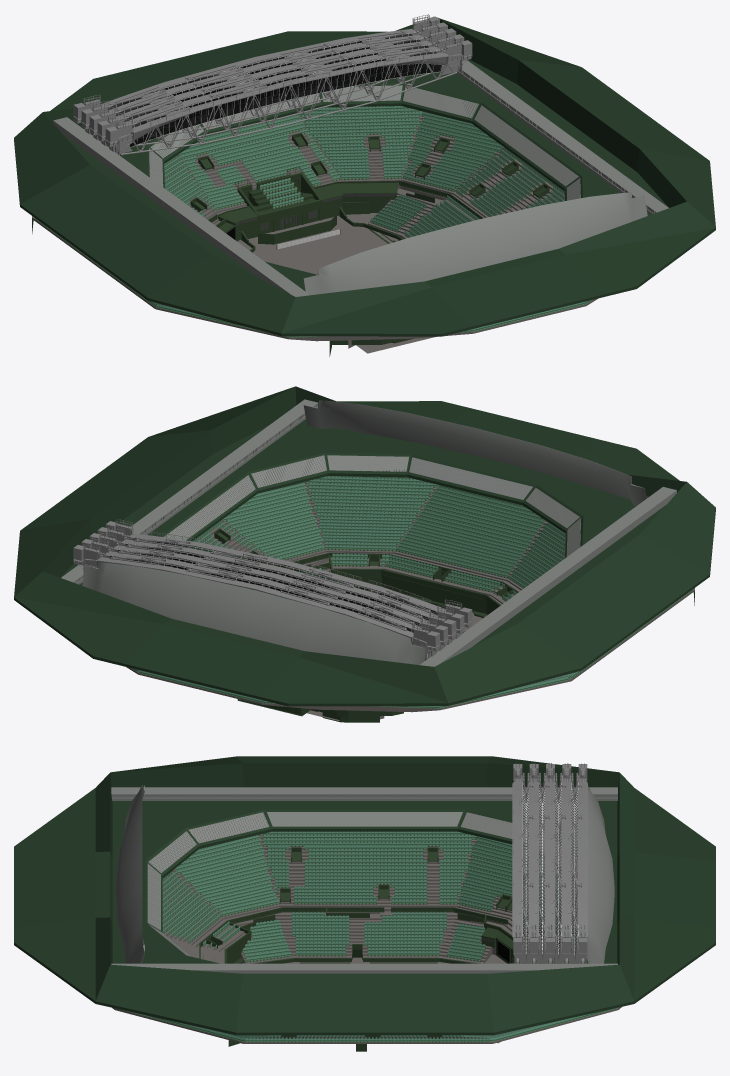
File: tennis_stadium.glb
The picture shows the model from 3 angles, top to bottom: view 1: azimuth 30°, elevation 25°; view 2: azimuth 150°, elevation 25°; view 3: azimuth 270°, elevation 25°; orthographic projection.
Visible parts, largest first — view 1: RoofTopShaderShader, RoofTopPartsShader, SeatShader, RetractableRoofShader, AsphaltBaseShader, StadiumPartsShader, GlassShader, WhiteMetalSub; view 2: RoofTopShaderShader, RoofTopPartsShader, SeatShader, RetractableRoofShader, AsphaltBaseShader, StadiumPartsShader, GlassShader, WhiteMetalSub; view 3: RoofTopShaderShader, SeatShader, RoofTopPartsShader, RetractableRoofShader, AsphaltBaseShader, StadiumPartsShader, WhiteMetalSub, GlassShader.
Part boxes in pixels (x1=…): RoofTopShaderShader: x1=14, y1=16, x2=715, y2=336; RoofTopPartsShader: x1=53, y1=42, x2=668, y2=296; SeatShader: x1=34, y1=106, x2=593, y2=337; RetractableRoofShader: x1=73, y1=14, x2=472, y2=155; AsphaltBaseShader: x1=32, y1=108, x2=598, y2=353; StadiumPartsShader: x1=190, y1=132, x2=549, y2=356; GlassShader: x1=108, y1=34, x2=441, y2=147; WhiteMetalSub: x1=109, y1=32, x2=442, y2=147; RoofTopShaderShader: x1=14, y1=386, x2=715, y2=706; RoofTopPartsShader: x1=61, y1=399, x2=676, y2=666; SeatShader: x1=131, y1=476, x2=692, y2=708; RetractableRoofShader: x1=73, y1=519, x2=472, y2=659; AsphaltBaseShader: x1=126, y1=476, x2=694, y2=720; StadiumPartsShader: x1=214, y1=528, x2=518, y2=722; GlassShader: x1=105, y1=537, x2=437, y2=632; WhiteMetalSub: x1=105, y1=537, x2=436, y2=631; RoofTopShaderShader: x1=14, y1=756, x2=715, y2=1035; SeatShader: x1=118, y1=831, x2=619, y2=1042; RoofTopPartsShader: x1=111, y1=784, x2=617, y2=973; RetractableRoofShader: x1=512, y1=763, x2=587, y2=963; AsphaltBaseShader: x1=112, y1=834, x2=621, y2=1043; StadiumPartsShader: x1=199, y1=847, x2=544, y2=1051; WhiteMetalSub: x1=522, y1=783, x2=578, y2=954; GlassShader: x1=523, y1=787, x2=577, y2=953.
Size of the model in its own units: 106 by 27.71 by 114.
Materials: 15 (12 with a texture image).
